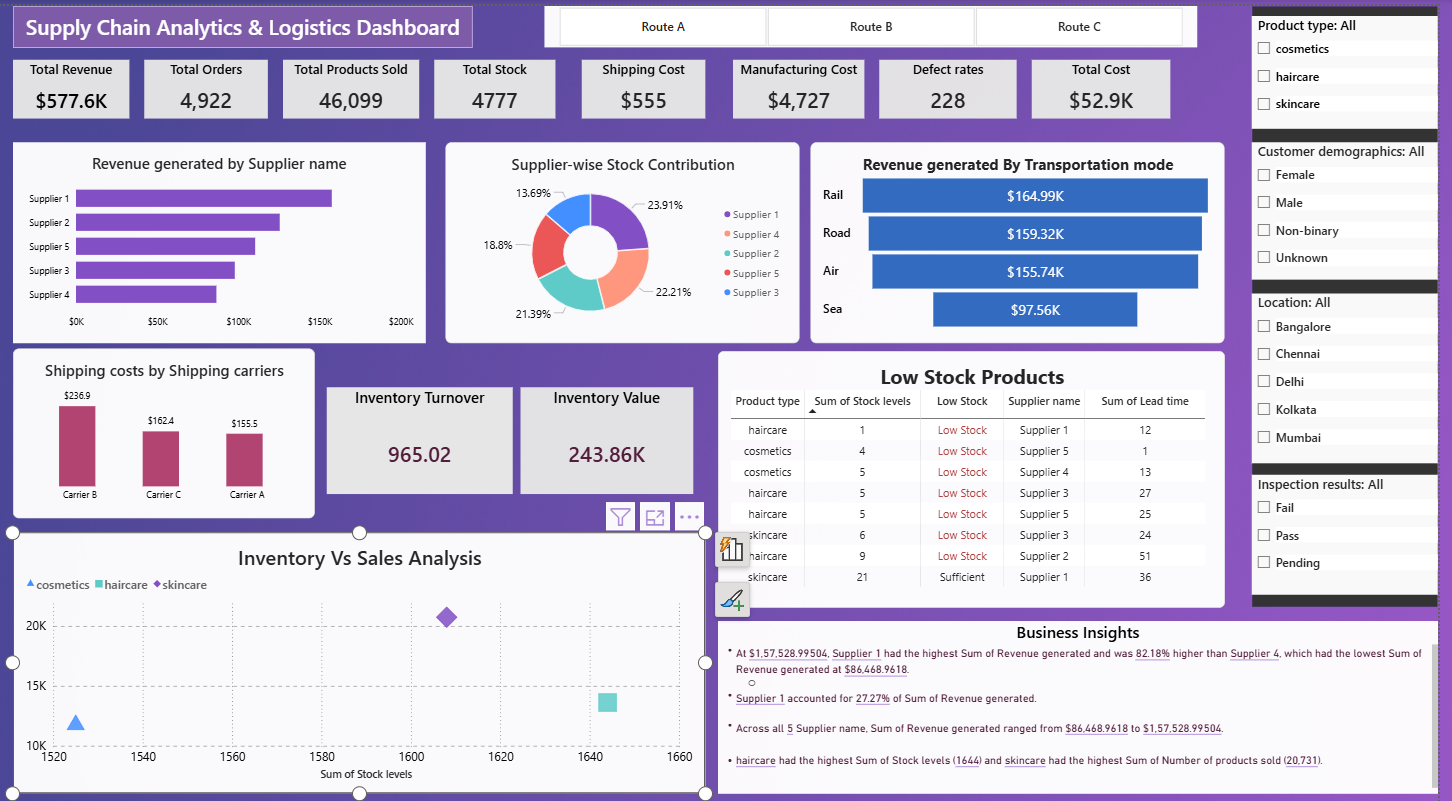

This screenshot's page, from the dashboard's own definition file:
{"tool":"powerbi","page":{"name":"Page 1","canvas":[1920,1080],"ordinal":0},"visuals":[{"type":"cardVisual","title":"Total Revenue","fields":{"Data":["Sum(supply_chain_data.Revenue generated)"]},"box":[20,71.7,155,78.3],"z":0},{"type":"shape","box":[20,0,612.9,55.7],"z":1000},{"type":"cardVisual","title":"Total Products Sold","fields":{"Data":["Sum(supply_chain_data.Number of products sold)"]},"box":[380,71.7,181.7,78.3],"z":2000},{"type":"cardVisual","title":"Total Stock ","fields":{"Data":["Sum(supply_chain_data.Stock levels)"]},"box":[581.7,71.7,161.7,78.3],"z":3000},{"type":"cardVisual","title":"Total Orders","fields":{"Data":["Sum(supply_chain_data.Order quantities)"]},"box":[195,71.7,165,78.3],"z":4000},{"type":"cardVisual","title":"Shipping Cost","fields":{"Data":["Sum(supply_chain_data.Shipping costs)"]},"box":[778.3,71.7,165,78.3],"z":5000},{"type":"cardVisual","title":"Manufacturing Cost","fields":{"Data":["Sum(supply_chain_data.Manufacturing costs)"]},"box":[980,71.7,175,78.3],"z":6000},{"type":"cardVisual","title":"Defect rates","fields":{"Data":["Sum(supply_chain_data.Defect rates)"]},"box":[1175,71.7,183.3,78.3],"z":7000},{"type":"cardVisual","title":"Total Cost","fields":{"Data":["Sum(supply_chain_data.Costs)"]},"box":[1378.3,71.7,185,78.3],"z":8000},{"type":"shape","box":[1671.7,0,248.3,801.7],"z":9000},{"type":"slicer","fields":{"Values":["supply_chain_data.Product type"]},"box":[1671.7,13.3,248.3,150],"z":10000},{"type":"slicer","fields":{"Values":["supply_chain_data.Customer demographics"]},"box":[1671.7,181.7,248.3,183.3],"z":11000},{"type":"slicer","fields":{"Values":["supply_chain_data.Location"]},"box":[1671.7,383.3,248.3,226.7],"z":12000},{"type":"barChart","title":"Revenue generated by Supplier name","fields":{"Category":["supply_chain_data.Supplier name"],"Y":["Sum(supply_chain_data.Revenue generated)"]},"box":[20,182,550,268],"z":13000},{"type":"slicer","fields":{"Values":["supply_chain_data.Inspection results"]},"box":[1671.7,625,248.3,160],"z":14000},{"type":"funnel","title":"Revenue generated By Transportation mode","fields":{"Category":["supply_chain_data.Transportation modes"],"Y":["Sum(supply_chain_data.Revenue generated)"]},"box":[1084,182,552,268],"z":15000},{"type":"slicer","fields":{"Values":["supply_chain_data.Routes"]},"box":[728.3,0,870,55],"z":16000},{"type":"columnChart","title":"Shipping costs by Shipping carriers","fields":{"Category":["supply_chain_data.Shipping carriers"],"Y":["Sum(supply_chain_data.Shipping costs)"]},"box":[20,456,402,226],"z":17000},{"type":"cardVisual","title":"Inventory Turnover","fields":{"Data":["supply_chain_data.Inventory Turnover"]},"box":[438,508,248,142],"z":18000},{"type":"cardVisual","title":"Inventory Value","fields":{"Data":["supply_chain_data.Inventory Value"]},"box":[696,508,230,142],"z":19000},{"type":"tableEx","title":"Low Stock Products","fields":{"Values":["supply_chain_data.Product type","Sum(supply_chain_data.Stock levels)","supply_chain_data.Low Stock","supply_chain_data.Supplier name","Sum(supply_chain_data.Lead time)"]},"box":[960,460,676,342],"z":20000},{"type":"scatterChart","title":"Inventory Vs Sales Analysis","fields":{"Series":["supply_chain_data.Product type"],"Size":["Sum(supply_chain_data.Revenue generated)"],"X":["Sum(supply_chain_data.Stock levels)"],"Y":["Sum(supply_chain_data.Number of products sold)"]},"box":[20,701.7,923.3,348.3],"z":21000},{"type":"donutChart","title":"Supplier-wise Stock Contribution","fields":{"Category":["supply_chain_data.Supplier name"],"Y":["Sum(supply_chain_data.Stock levels)"]},"box":[596,182,472,268],"z":22000},{"type":"textbox","title":"Business Insights","box":[960,820,960,230],"z":23001}]}

Visuals, with their boxes in screenshot pixels (x1, y1, x2, y2), scaled from the page's 1920x1080 canvas onto the 1452x801 screenshot:
"Total Revenue" cardVisual: (15, 53, 132, 111)
shape: (15, 0, 479, 41)
"Total Products Sold" cardVisual: (287, 53, 425, 111)
"Total Stock " cardVisual: (440, 53, 562, 111)
"Total Orders" cardVisual: (147, 53, 272, 111)
"Shipping Cost" cardVisual: (589, 53, 713, 111)
"Manufacturing Cost" cardVisual: (741, 53, 873, 111)
"Defect rates" cardVisual: (889, 53, 1027, 111)
"Total Cost" cardVisual: (1042, 53, 1182, 111)
shape: (1264, 0, 1451, 595)
slicer - supply_chain_data.Product type: (1264, 10, 1451, 121)
slicer - supply_chain_data.Customer demographics: (1264, 135, 1451, 271)
slicer - supply_chain_data.Location: (1264, 284, 1451, 452)
"Revenue generated by Supplier name" barChart: (15, 135, 431, 334)
slicer - supply_chain_data.Inspection results: (1264, 464, 1451, 582)
"Revenue generated By Transportation mode" funnel: (820, 135, 1237, 334)
slicer - supply_chain_data.Routes: (551, 0, 1209, 41)
"Shipping costs by Shipping carriers" columnChart: (15, 338, 319, 506)
"Inventory Turnover" cardVisual: (331, 377, 519, 482)
"Inventory Value" cardVisual: (526, 377, 700, 482)
"Low Stock Products" tableEx: (726, 341, 1237, 595)
"Inventory Vs Sales Analysis" scatterChart: (15, 520, 713, 779)
"Supplier-wise Stock Contribution" donutChart: (451, 135, 808, 334)
"Business Insights" textbox: (726, 608, 1451, 779)
